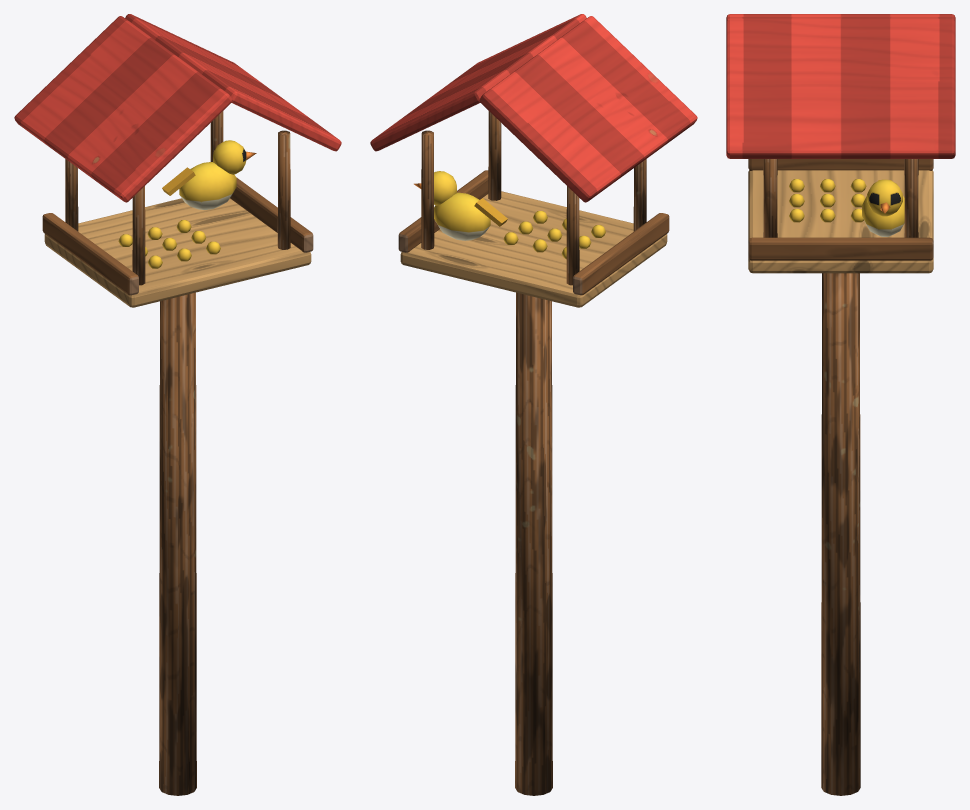
File: bird_feeder.glb
3 renders of one model, left to right at view 1: azimuth 30°, elevation 25°; view 2: azimuth 150°, elevation 25°; view 3: azimuth 270°, elevation 25°, orthographic. The views are drawn at different scales.
Parts seen in each view (by area): view 1: BirdFeeder; view 2: BirdFeeder; view 3: BirdFeeder.
Part boxes in pixels (x1=…): BirdFeeder: x1=14, y1=14, x2=341, y2=795; BirdFeeder: x1=370, y1=14, x2=697, y2=795; BirdFeeder: x1=726, y1=14, x2=955, y2=795.
Bounding box in the file's own units: 0.6075 × 1.93 × 0.52.
1 material, 1 textured.
